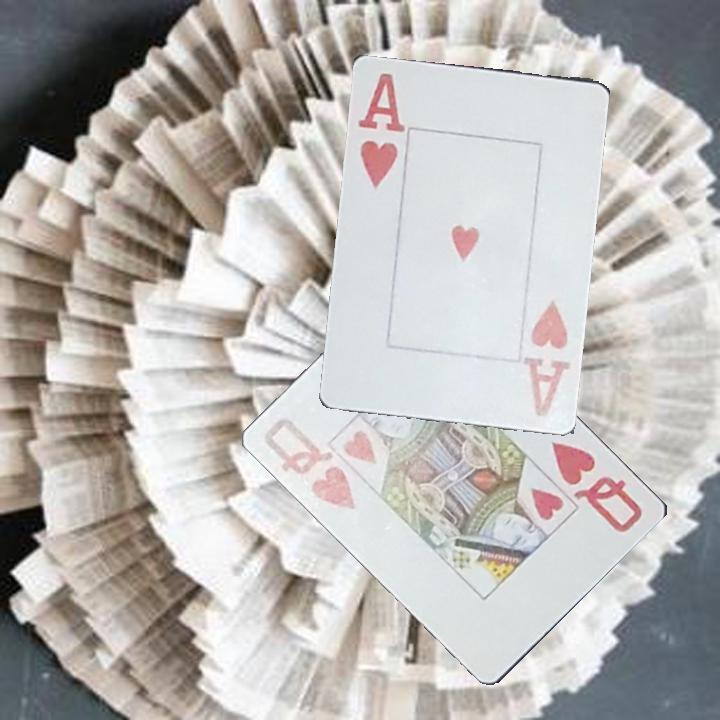Ah: (519, 295, 573, 419), (354, 69, 408, 191)
Qh: (547, 438, 648, 539), (260, 414, 360, 513)
